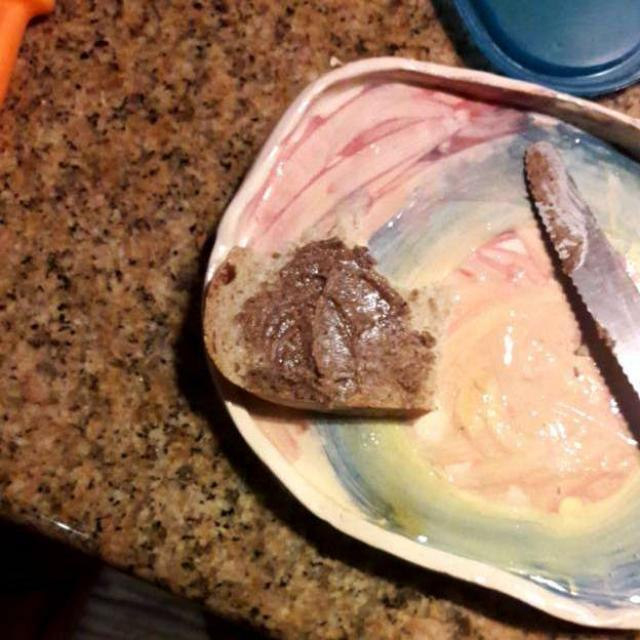bread: (210, 248, 424, 427)
butter: (235, 251, 405, 397)
